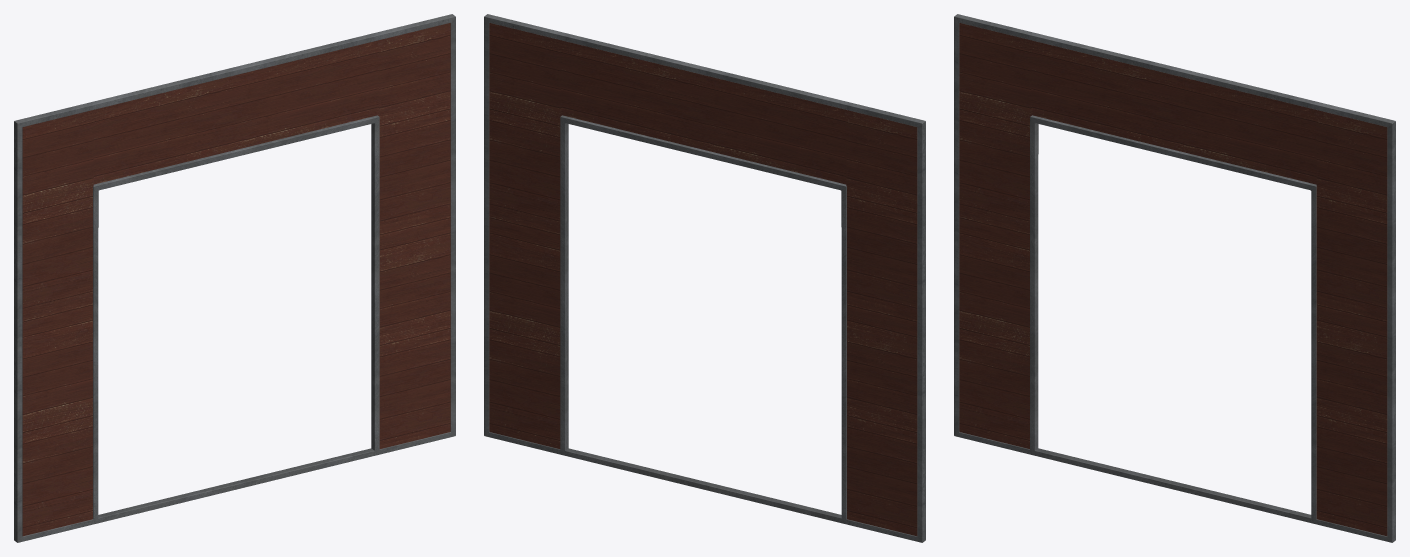
File: Pen_01_Wall_Door_Alt.fbx
3 renders of one model, left to right at view 1: azimuth 30°, elevation 25°; view 2: azimuth 150°, elevation 25°; view 3: azimuth 330°, elevation 25°, orthographic.
Parts seen in each view (by area): view 1: Pen_01_Wall_Door_Alt; view 2: Pen_01_Wall_Door_Alt; view 3: Pen_01_Wall_Door_Alt.
Part boxes in pixels (x1,y1,x2,y2): Pen_01_Wall_Door_Alt: (14,14,455,542); Pen_01_Wall_Door_Alt: (484,14,925,542); Pen_01_Wall_Door_Alt: (954,14,1395,542).
Size of the model in its own units: 350 by 320 by 5.
